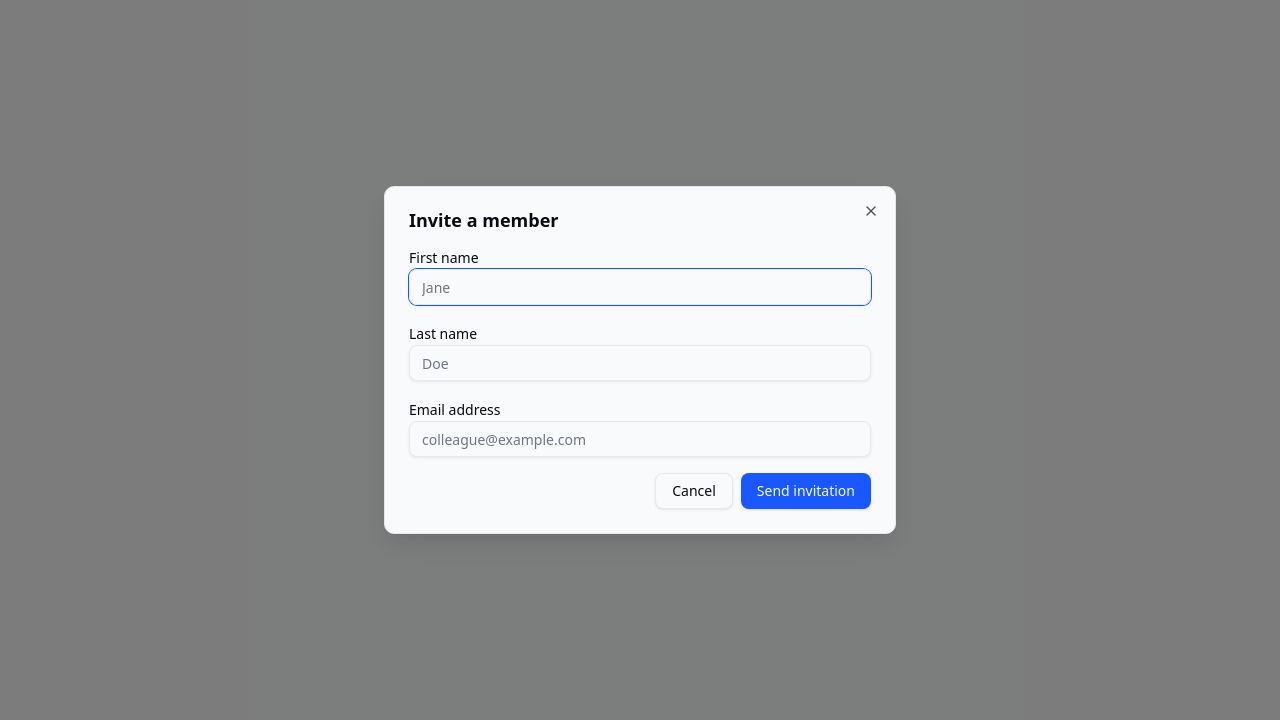
Test: InviteMemberDialog › zod validation › does not submit with an empty email
What coordinates should you click on to do the following:
click the button "Send invitation"
I would click on:
 (806, 491)
Its box is [741, 473, 871, 509].
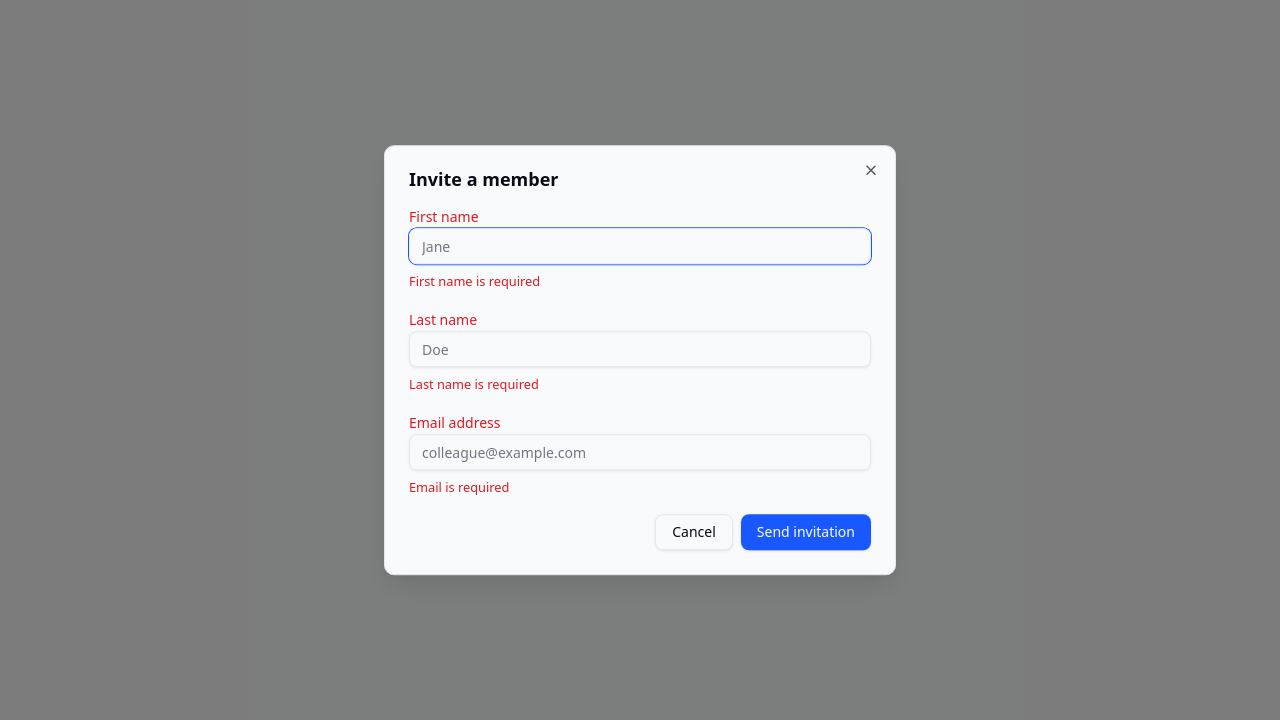
expect the text "Email is required" is shown: met, box [409, 479, 509, 497]
